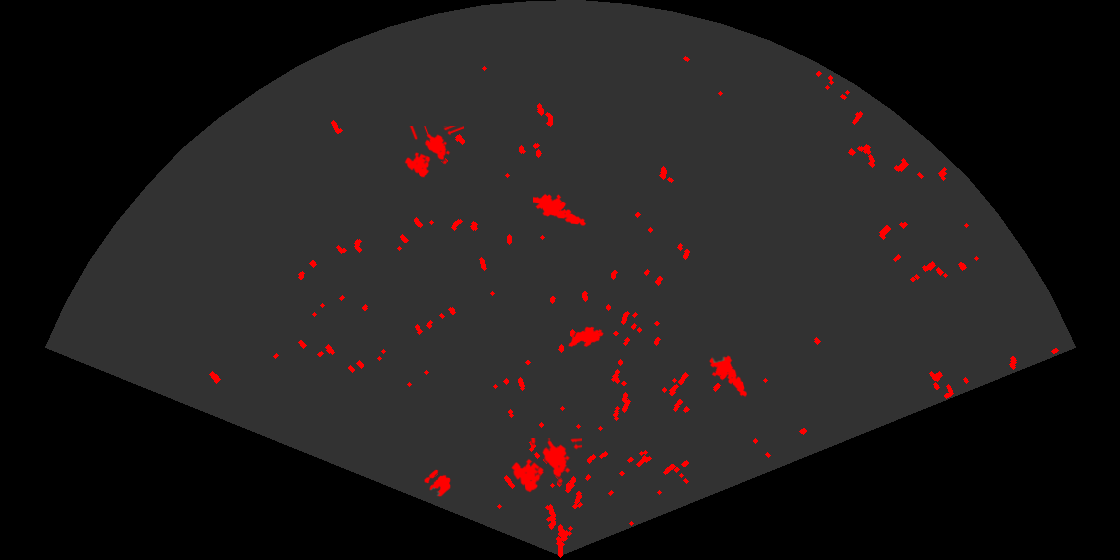AUV: (566, 325, 605, 349)
ball: (423, 468, 452, 498)
cage: (510, 438, 582, 494), (403, 126, 464, 179)
frogman: (533, 192, 588, 227), (708, 354, 749, 399)
